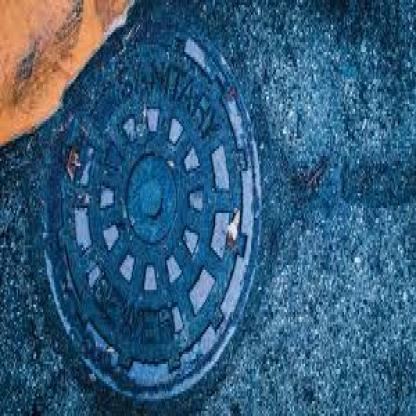closed manhole-not overflowing-: (44, 31, 262, 405)
